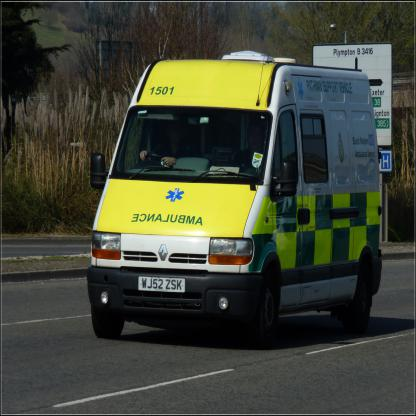Ambulance: (85, 47, 380, 346)
